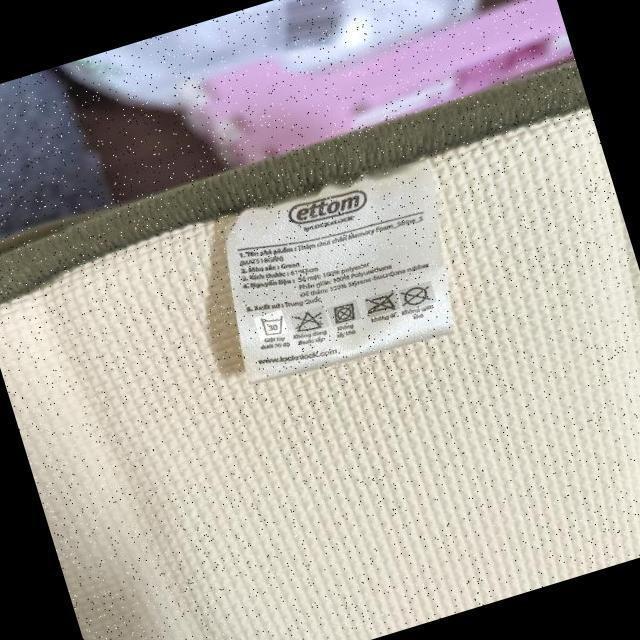30C: (260, 312, 287, 336)
DN_bleach: (295, 307, 326, 333)
DN_dry_clean: (401, 283, 436, 310)
DN_iron: (366, 290, 400, 315)
DN_tumble_dry: (332, 298, 359, 325)
